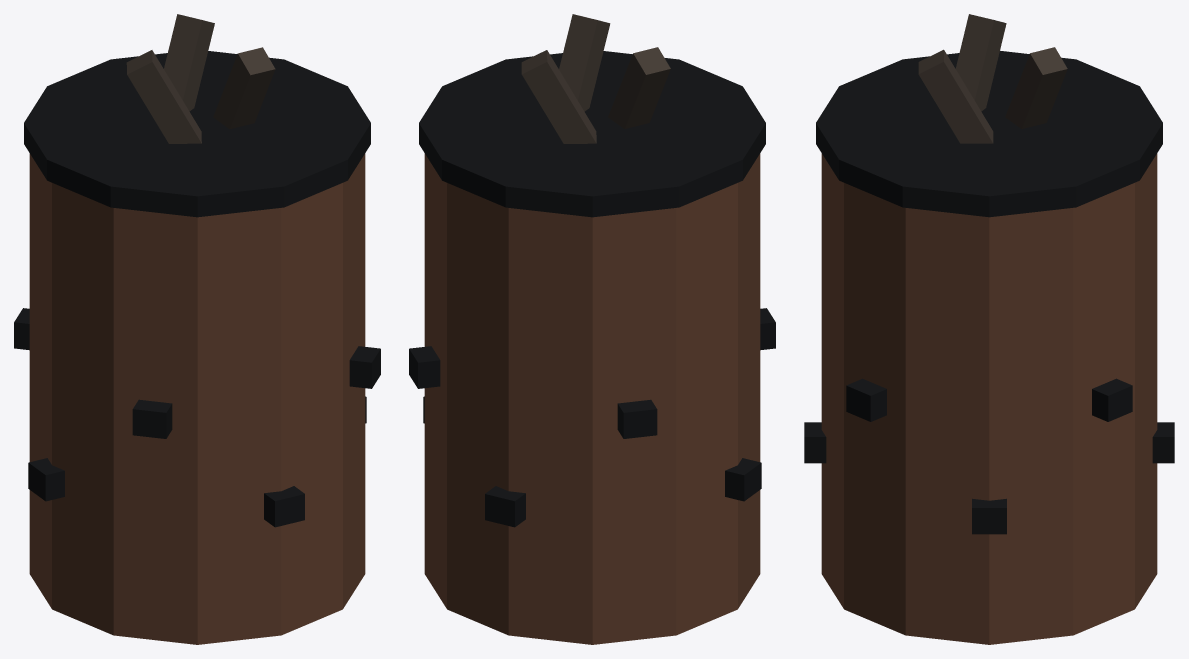
The model's file is prop_fire_barrel.glb.
3 renders of one model, left to right at view 1: azimuth 30°, elevation 25°; view 2: azimuth 150°, elevation 25°; view 3: azimuth 270°, elevation 25°, orthographic.
Visible parts, largest first — view 1: room_fire_barrel; view 2: room_fire_barrel; view 3: room_fire_barrel.
Boxes of the visible parts, x1,y1,x2,y2 form: room_fire_barrel: [14, 14, 380, 644]; room_fire_barrel: [409, 14, 775, 644]; room_fire_barrel: [804, 14, 1174, 644].
Bounding box in the file's own units: 0.64 × 1.02 × 0.64.
